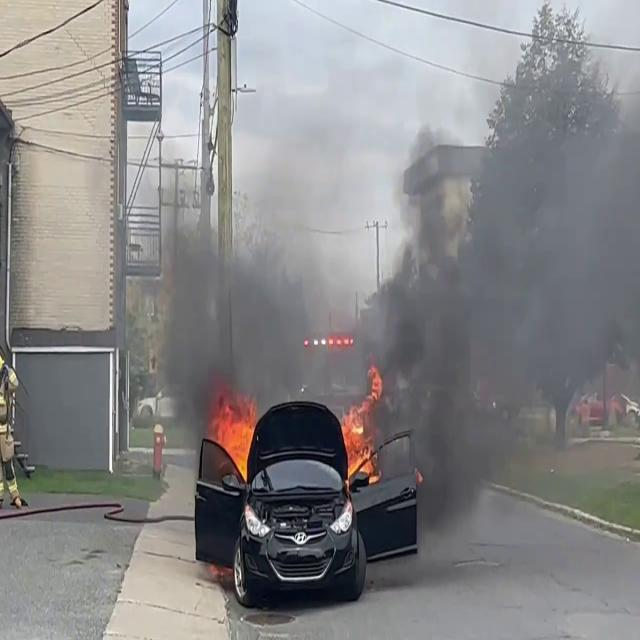Fire: (338, 365, 384, 488), (207, 394, 260, 480)
Smoke: (361, 6, 640, 506), (152, 148, 334, 414)
